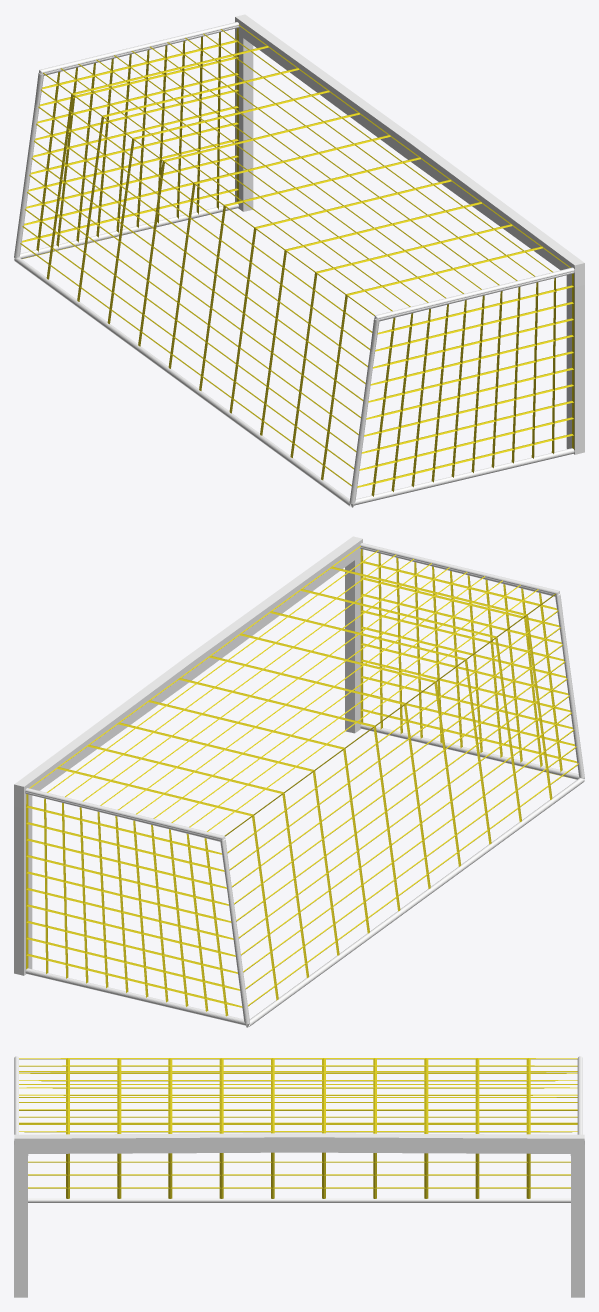
The model's file is water_polo_goal_FINAL.fbx.
3 views of the same model, one above another, from view 1: azimuth 30°, elevation 25°; view 2: azimuth 150°, elevation 25°; view 3: azimuth 270°, elevation 25° (orthographic). The views are drawn at different scales.
Visible parts, largest first — view 1: Goal, Cube.002, Plane.001; view 2: Goal, Cube.002, Plane.001; view 3: Goal, Cube.002, Plane.001.
Part boxes in pixels (bbox=[...]): Goal: bbox=[20, 25, 574, 496]; Cube.002: bbox=[235, 14, 584, 454]; Plane.001: bbox=[14, 22, 574, 507]; Goal: bbox=[26, 546, 578, 1016]; Cube.002: bbox=[14, 536, 363, 975]; Plane.001: bbox=[25, 543, 584, 1027]; Goal: bbox=[19, 1058, 577, 1198]; Cube.002: bbox=[14, 1133, 584, 1297]; Plane.001: bbox=[14, 1056, 582, 1202].
Bounding box in the file's own units: 121 × 94.3 × 304.
